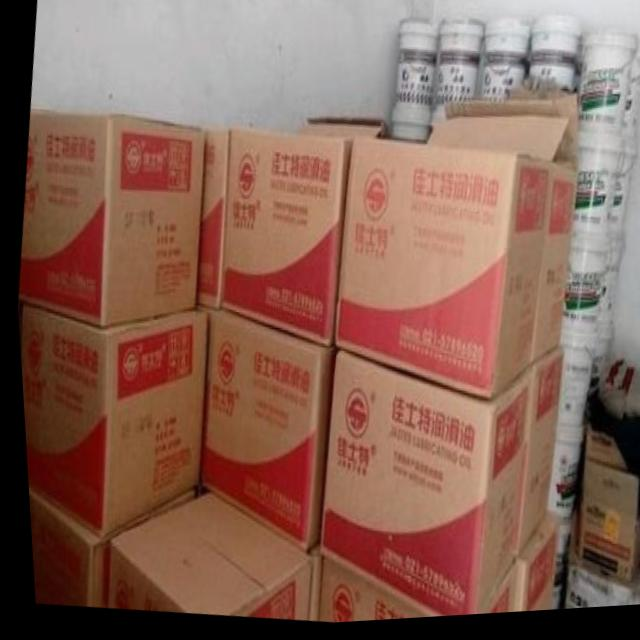box: (325, 138, 549, 405), (315, 355, 527, 621), (15, 300, 203, 538), (16, 113, 205, 328), (426, 100, 577, 369), (190, 304, 330, 557), (216, 124, 352, 348), (100, 492, 305, 622), (509, 351, 561, 566), (308, 548, 438, 625), (23, 490, 104, 606), (568, 465, 633, 585), (192, 129, 228, 312), (504, 518, 553, 618), (470, 564, 507, 620), (578, 435, 620, 481), (301, 120, 388, 138), (299, 546, 313, 621)
